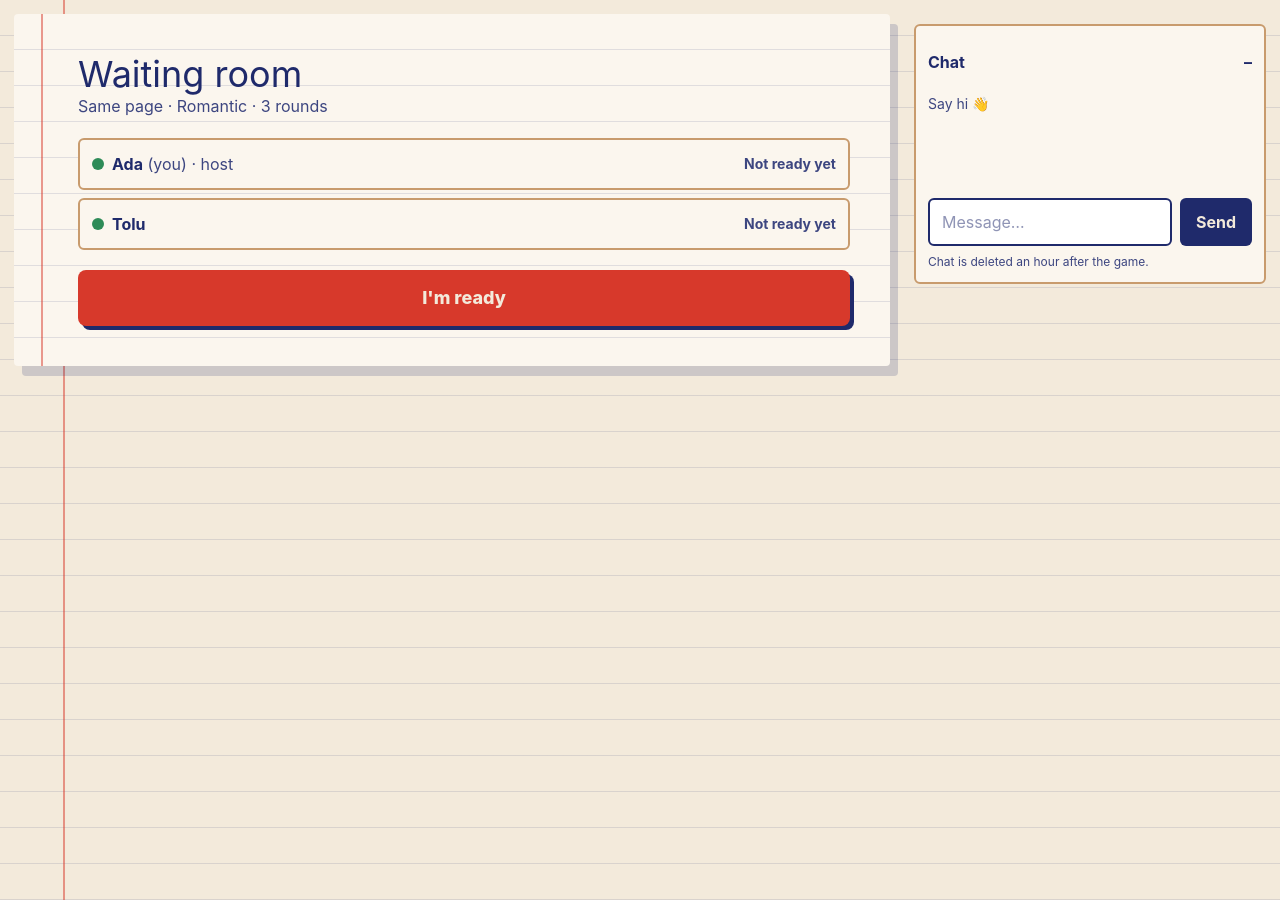
Test: GameRoom › chats both ways
The width and height of the screenshot is (1280, 900).
Type "hi love" into the field labelled "Message…" at (1050, 222), box x1=928 y1=198 x2=1172 y2=246
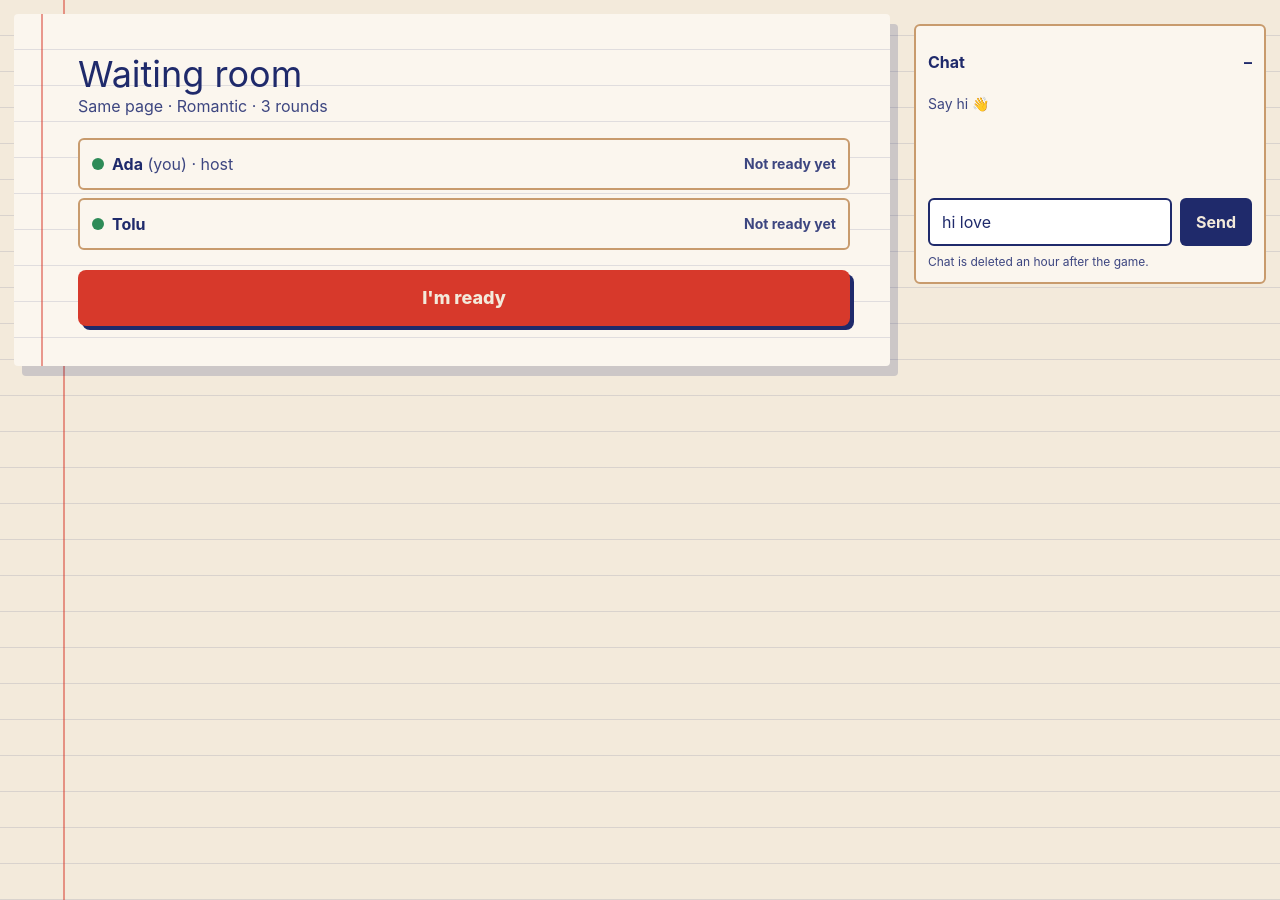
Click the button "Send" at (1216, 222), box x1=1180 y1=198 x2=1252 y2=246
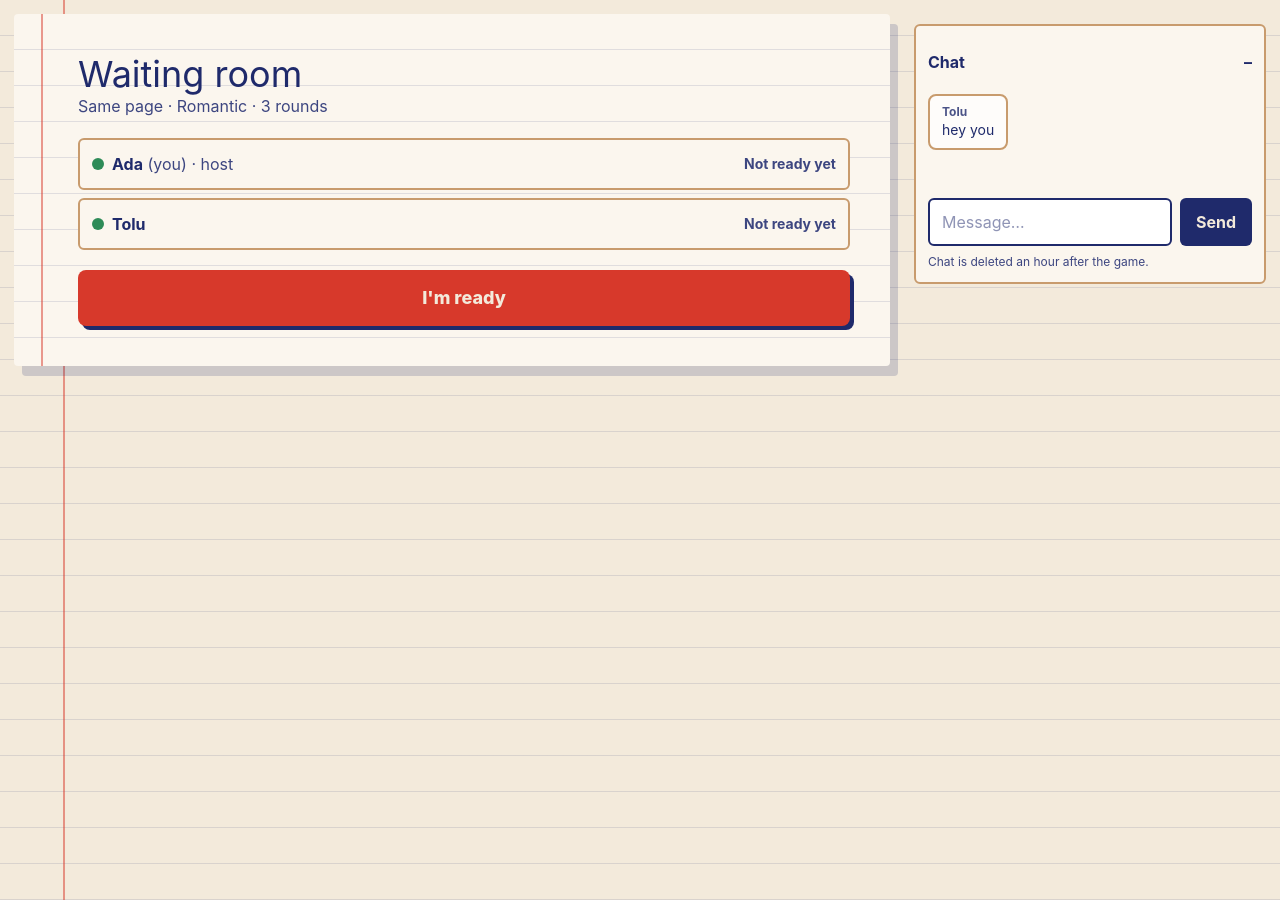
expect the list item "hey you" is shown: met, box x1=942 y1=121 x2=994 y2=138
